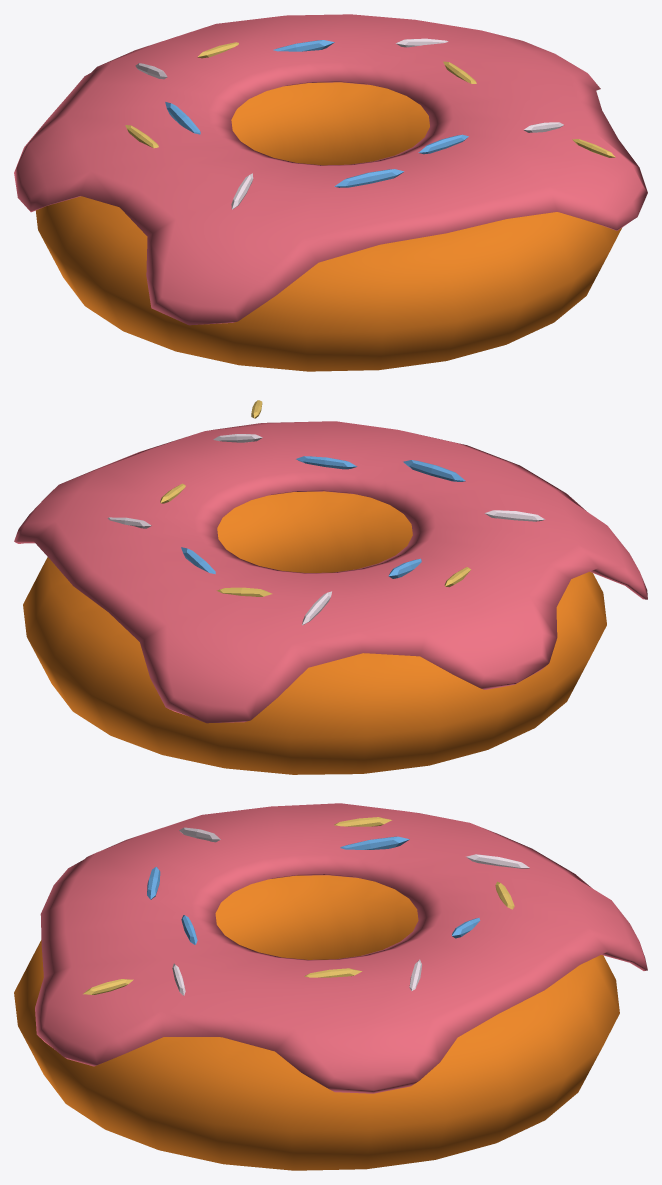
File: Donut.fbx
3 views of the same model, one above another, from view 1: azimuth 30°, elevation 25°; view 2: azimuth 150°, elevation 25°; view 3: azimuth 270°, elevation 25° (orthographic). The views are drawn at different scales.
Visible parts, largest first — view 1: Donut; view 2: Donut; view 3: Donut.
Boxes of the visible parts, x1,y1,x2,y2 form: Donut: (14, 14, 647, 371); Donut: (14, 400, 647, 774); Donut: (14, 803, 647, 1170).
Bounding box in the file's own units: 11.28 × 3.41 × 11.25.
